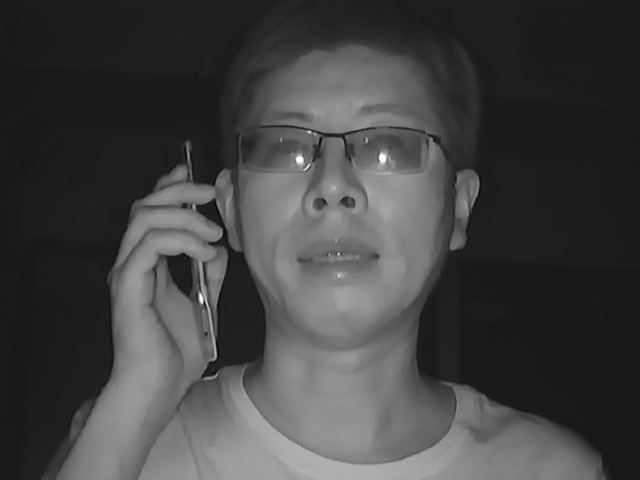hand: (105, 167, 231, 381)
